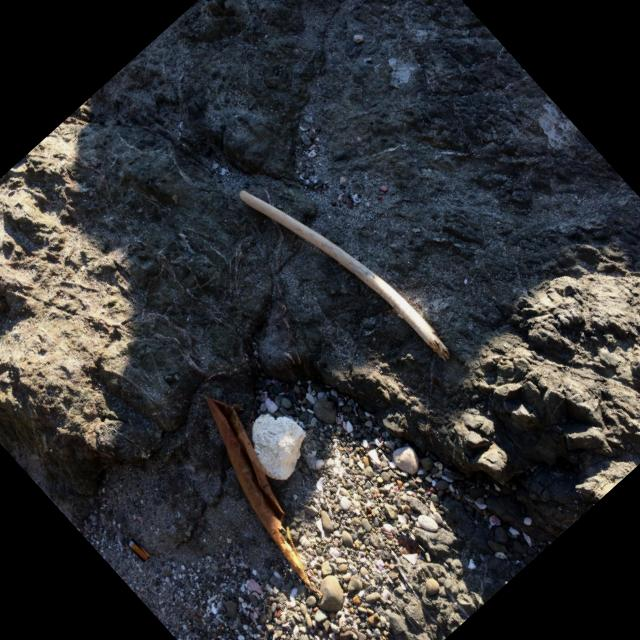Cigarette: (129, 539, 149, 560)
Styrofoam piece: (252, 413, 306, 479)
